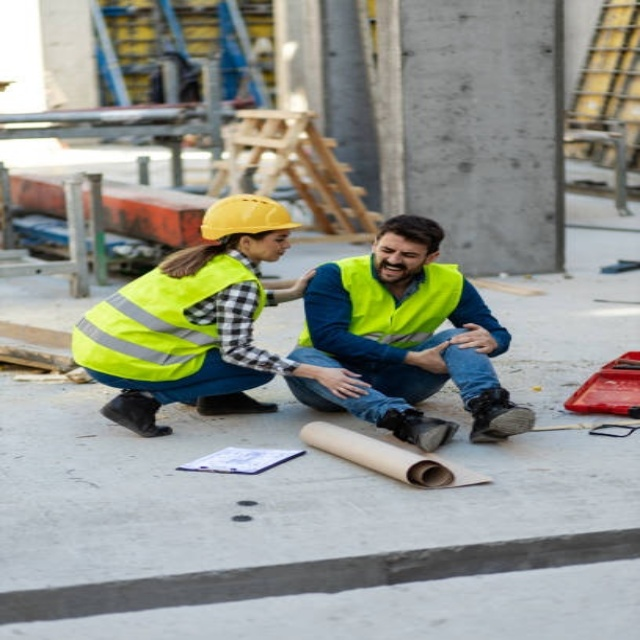Gafas: (589, 423, 639, 437)
Sin_gafas: (378, 242, 425, 259), (254, 233, 293, 245)
Sin_guantes: (308, 365, 373, 398), (441, 322, 498, 356)
Sin_mascara: (262, 247, 290, 264), (380, 261, 406, 279)
